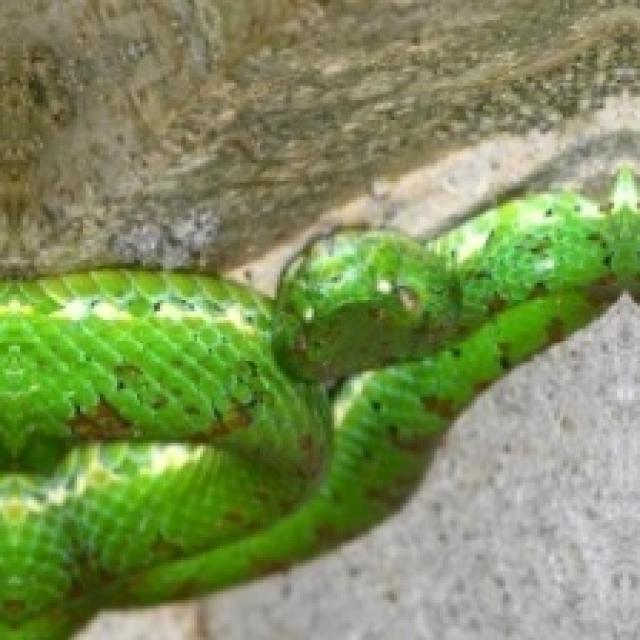philippine pitviper: (0, 191, 637, 637), (0, 280, 329, 637)
